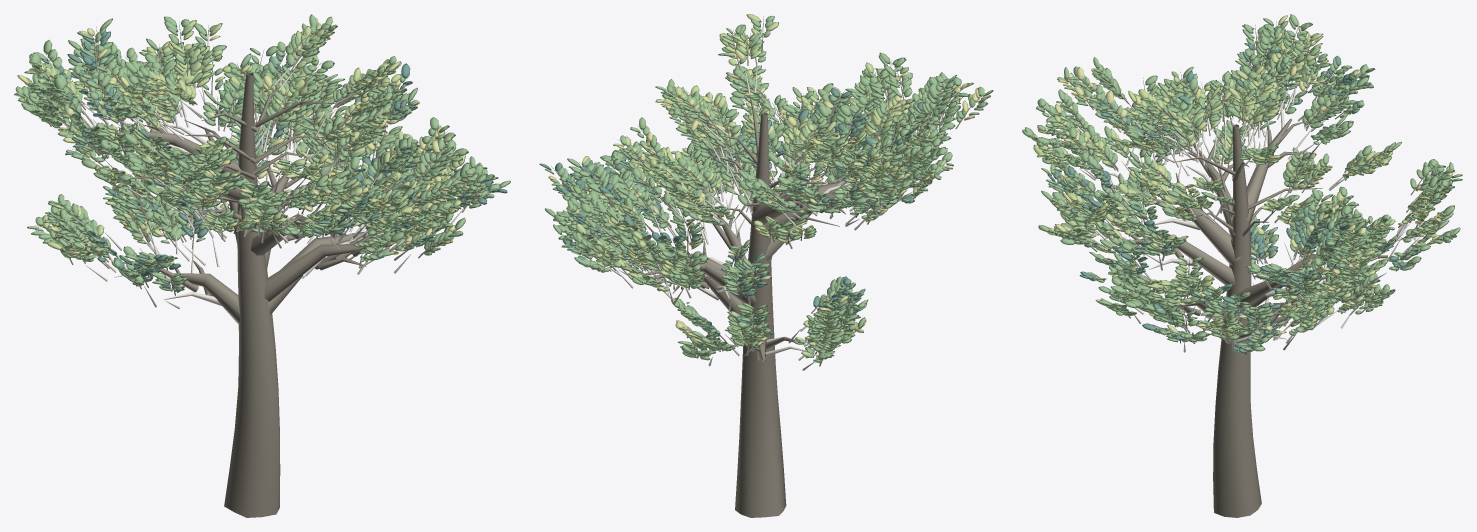
Rendered from oak_arch.glb.
3 views of the same model, side by side, from view 1: azimuth 30°, elevation 25°; view 2: azimuth 150°, elevation 25°; view 3: azimuth 270°, elevation 25° (orthographic). The views are drawn at different scales.
Visible parts, largest first — view 1: oak_arch; view 2: oak_arch; view 3: oak_arch.
Part boxes in pixels (x1,y1,x2,y2): oak_arch: [14, 14, 510, 517]; oak_arch: [539, 14, 993, 517]; oak_arch: [1022, 14, 1462, 517].
Bounding box in the file's own units: 8.18 × 8.7 × 8.34.
